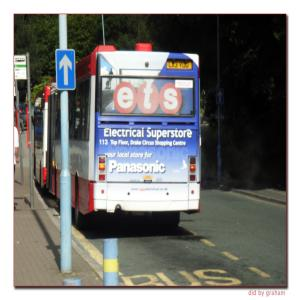Vehicle-registration-plate: (167, 63, 194, 70)
